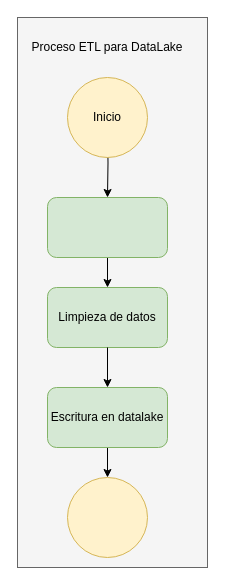
Some shapes in this 225 by 585 pixel diagram are drawn without their labels. The shapes that lost their labels are listed below. From the top down, each one's centre as x and y in pixels, then its label:
At pixel 107 227: "Extraccion de datos de la base de datos transaccional".
At pixel 107 517: "Fin".
